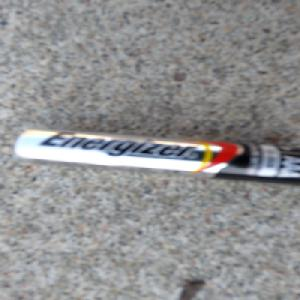Battery: (10, 127, 300, 186)
